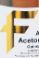Fisher: (1, 10, 38, 53)
